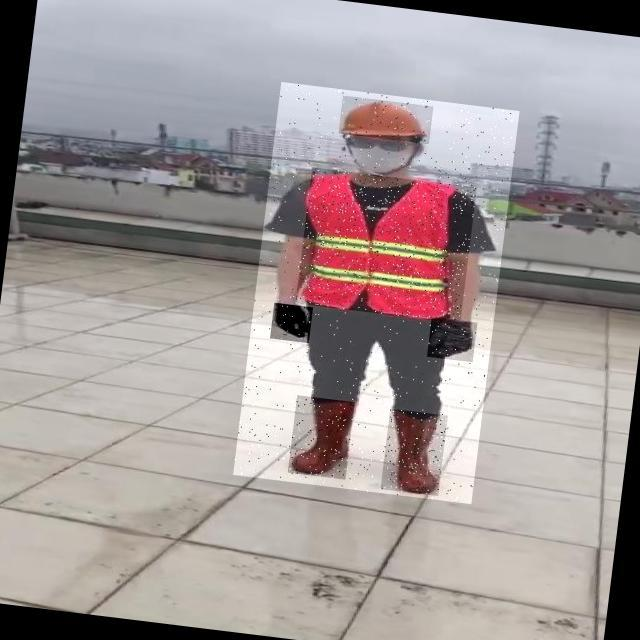Gloves: (426, 317, 477, 362), (270, 303, 313, 343)
Helmet: (339, 96, 435, 145)
Human: (233, 82, 519, 504)
Safety Boot: (380, 409, 447, 496), (288, 395, 355, 480)
Safety Vest: (295, 167, 476, 323)
